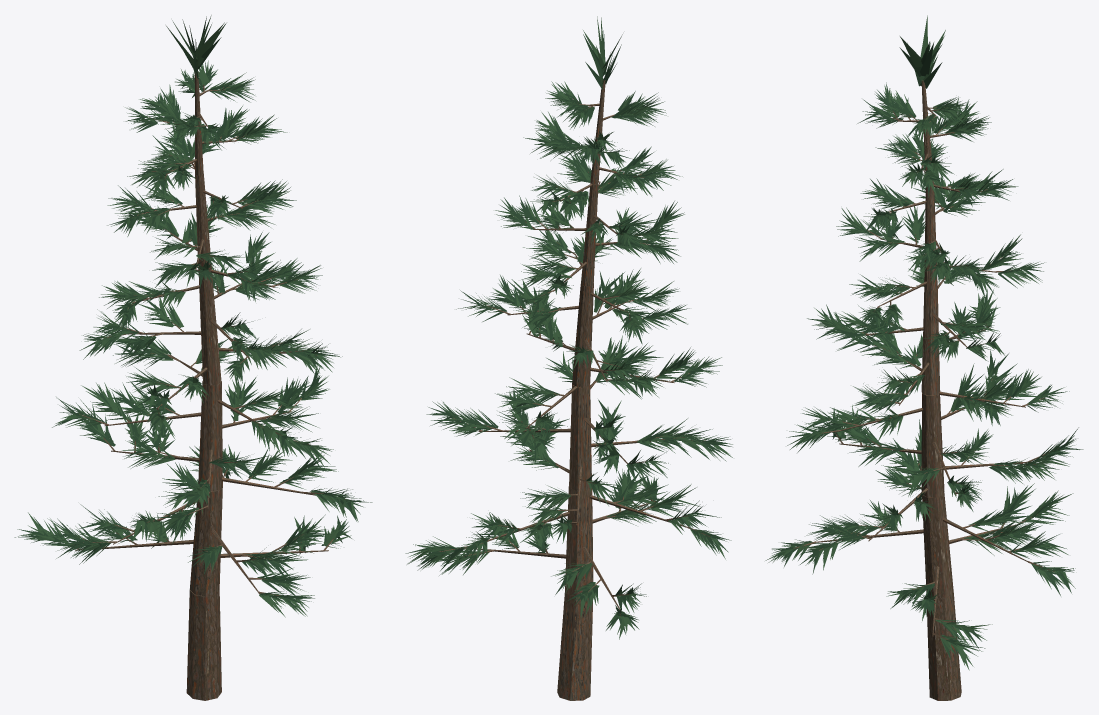
The model's file is detail_pine.glb.
3 views of the same model, side by side, from view 1: azimuth 30°, elevation 25°; view 2: azimuth 150°, elevation 25°; view 3: azimuth 270°, elevation 25° (orthographic). The views are drawn at different scales.
Parts seen in each view (by area): view 1: Cone; view 2: Cone; view 3: Cone.
Boxes of the visible parts, x1=… form: Cone: x1=14, y1=15, x2=372, y2=700; Cone: x1=405, y1=16, x2=732, y2=700; Cone: x1=765, y1=15, x2=1083, y2=700.
Bounding box in the file's own units: 6.01 × 12.57 × 5.54.
Materials: 3 (1 with a texture image).
